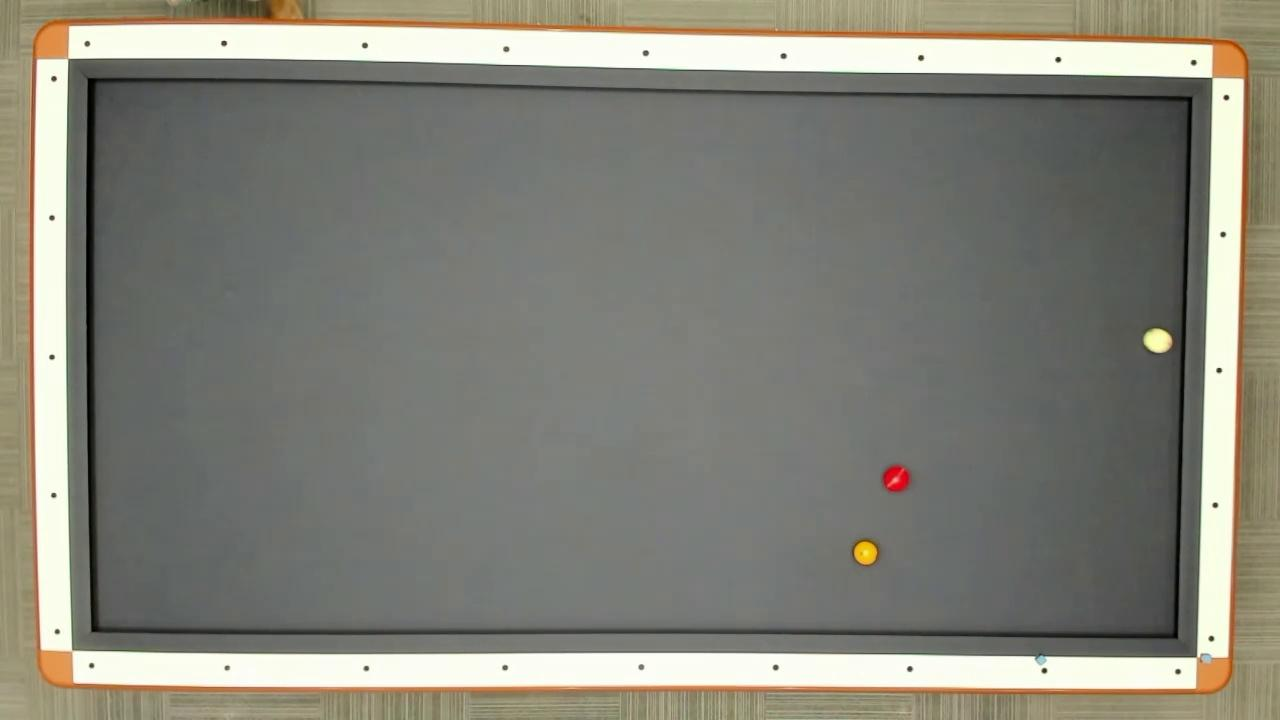Red: (882, 462, 913, 493)
White: (1142, 325, 1175, 356)
Yellow: (851, 539, 880, 567)
